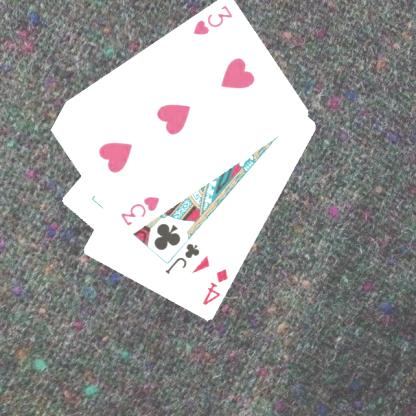3H: (190, 3, 234, 37), (118, 194, 161, 228)
4D: (200, 266, 230, 307)
JC: (162, 240, 202, 276)
